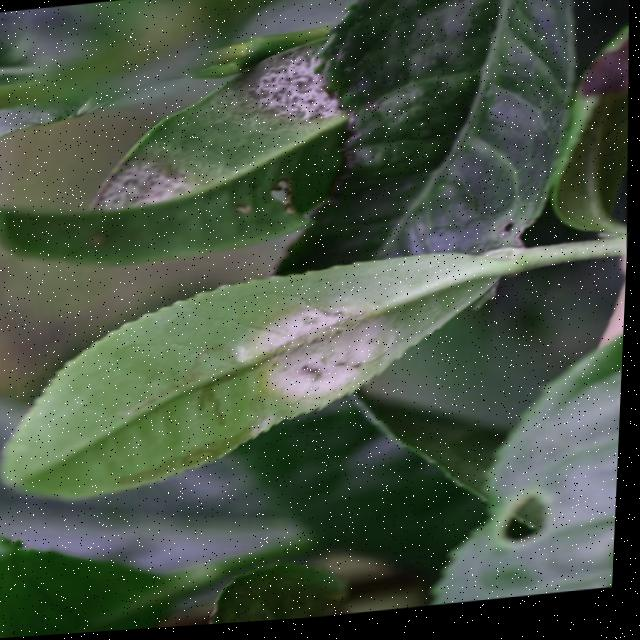Tea cake: (238, 286, 386, 412)
